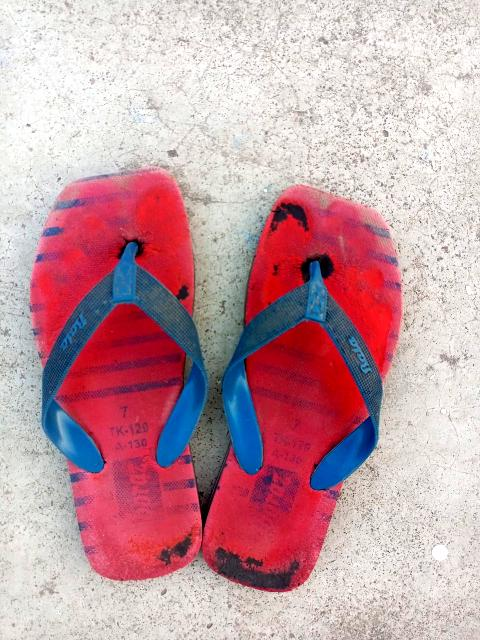sandal: (137, 176, 437, 609), (20, 152, 194, 591)
